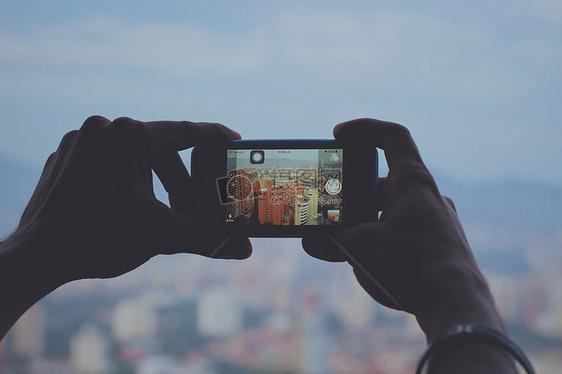taking photos: (14, 108, 492, 314)
